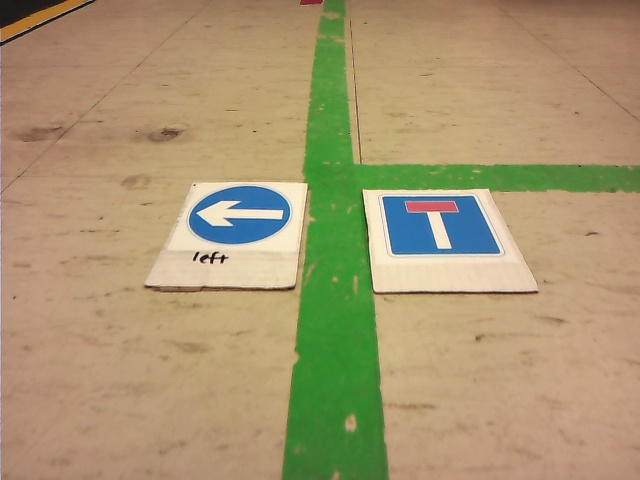DEAD END: (382, 195, 501, 256)
TURN LEFT: (188, 186, 290, 244)
